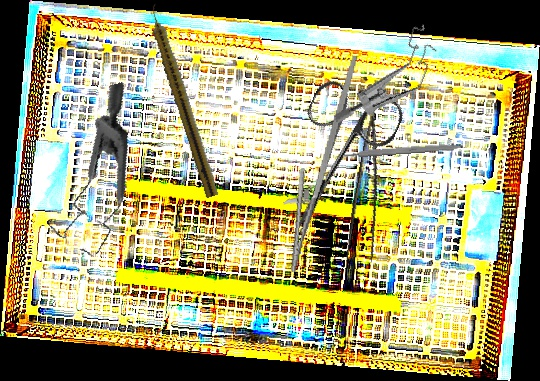Handpiece: (143, 1, 224, 199)
Iris Scissors: (259, 71, 408, 255)
Needle Holder: (271, 48, 360, 277)
Scalpel Handle: (343, 141, 464, 159)
Speculum: (14, 81, 172, 266), (331, 5, 446, 148)
Tissue Forceps: (340, 103, 402, 270)
